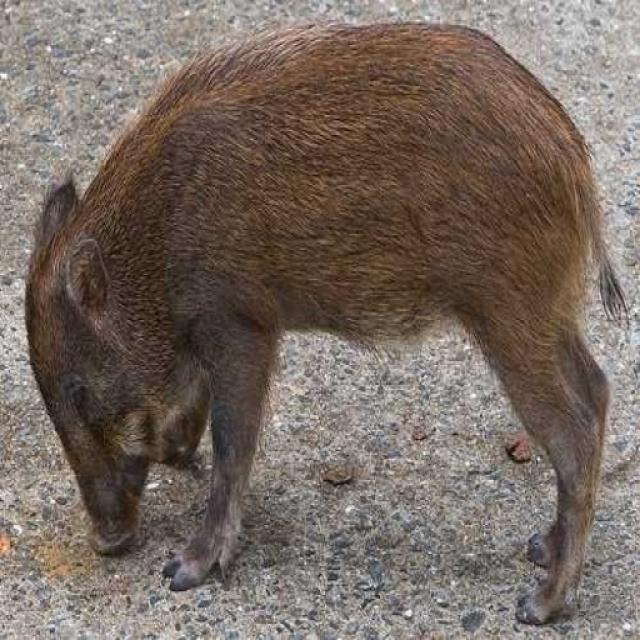pig: (9, 30, 622, 607)
